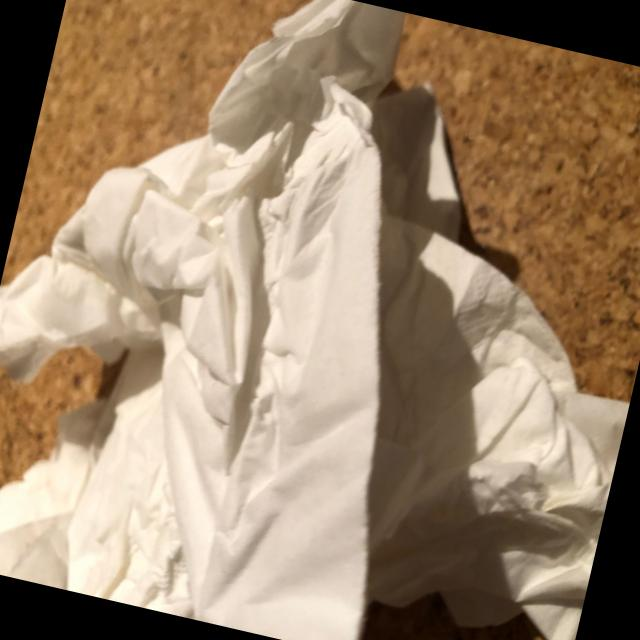organic waste: (0, 0, 511, 640), (253, 67, 640, 640)
